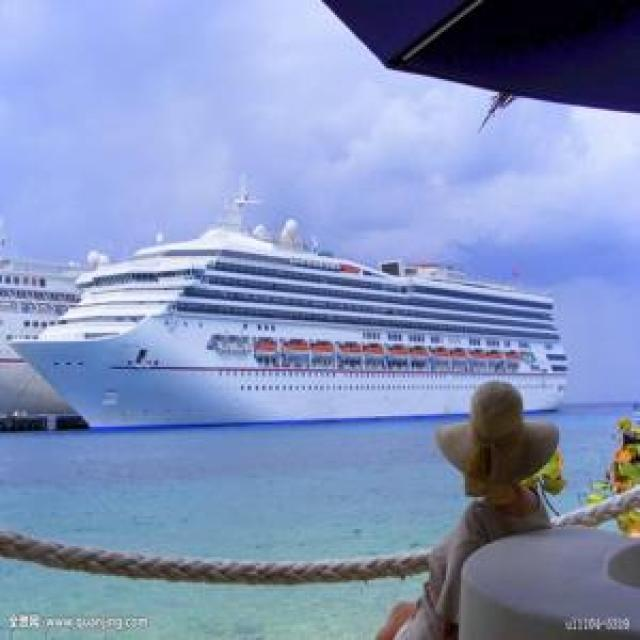passenger ship: (27, 186, 575, 429)
